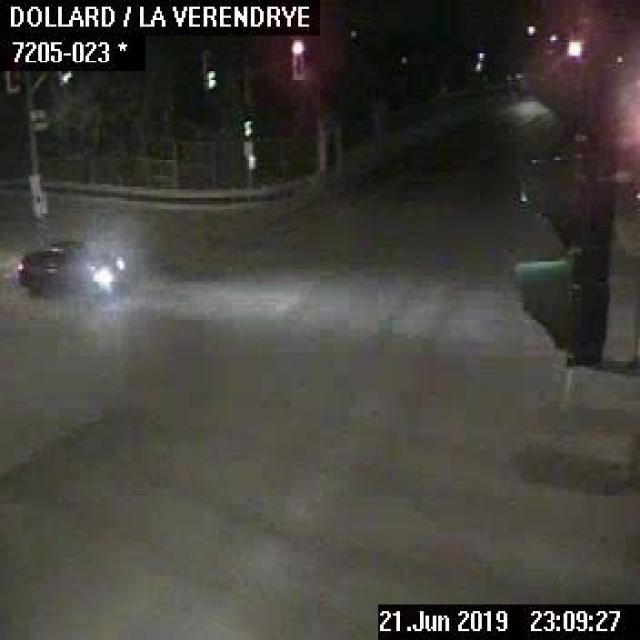vehicle: (16, 238, 124, 293)
